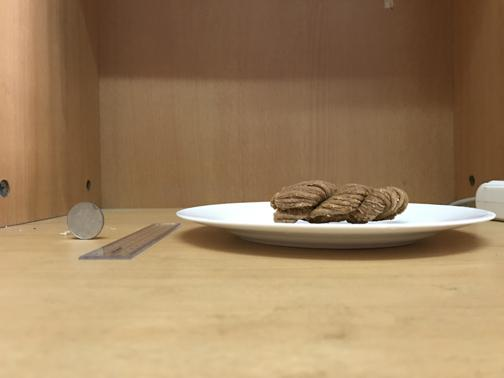coin: (66, 200, 103, 240)
fired_dough_twist: (270, 180, 408, 223)
